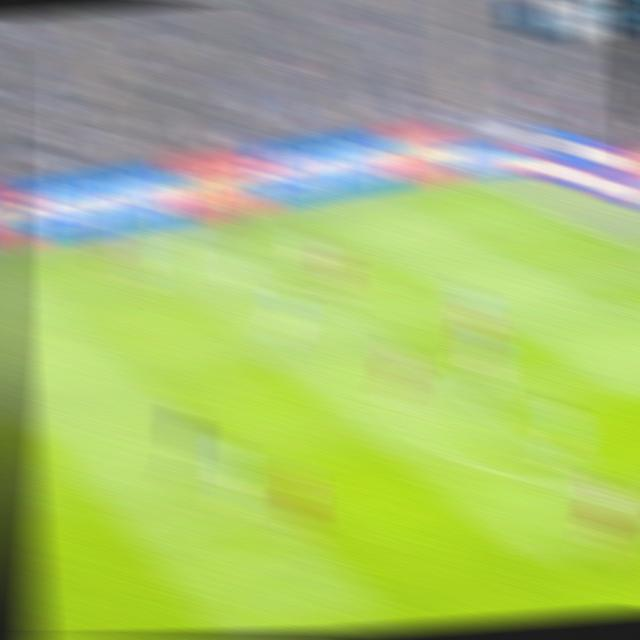bigarea_top_inner: (293, 279, 333, 309)
bigarea_top_outter: (569, 225, 619, 248)
corner: (448, 175, 489, 193)
smallarea_top_inner: (608, 299, 640, 327)
top_arc_area_intersection: (406, 357, 447, 385)
